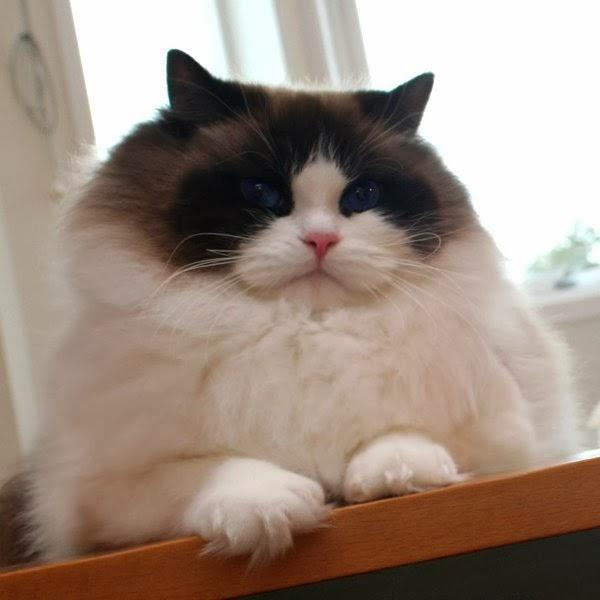ragdoll: (147, 46, 446, 321)
